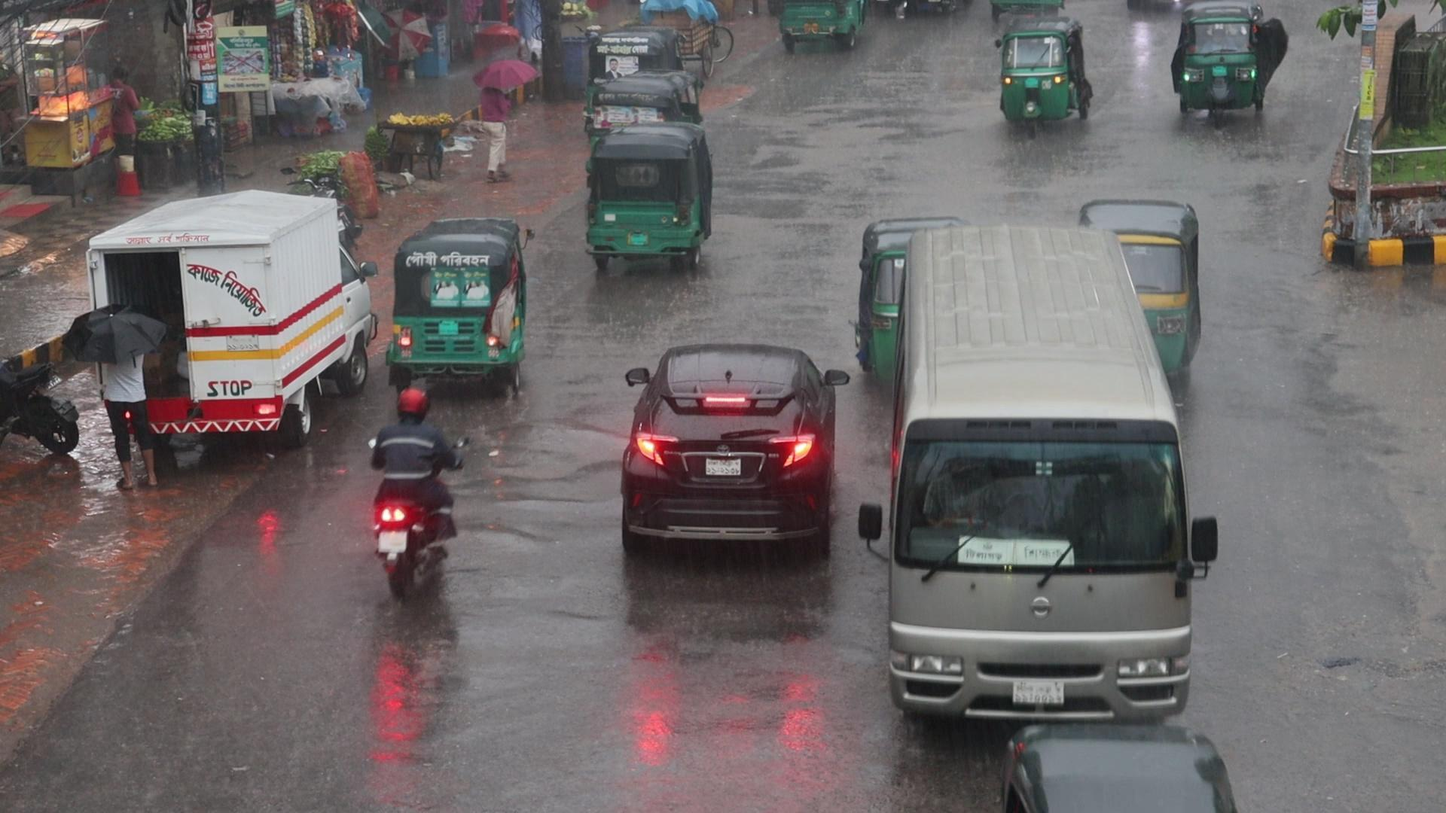Bike: (363, 382, 465, 601)
Bus: (880, 218, 1205, 722)
Car: (619, 340, 842, 566)
